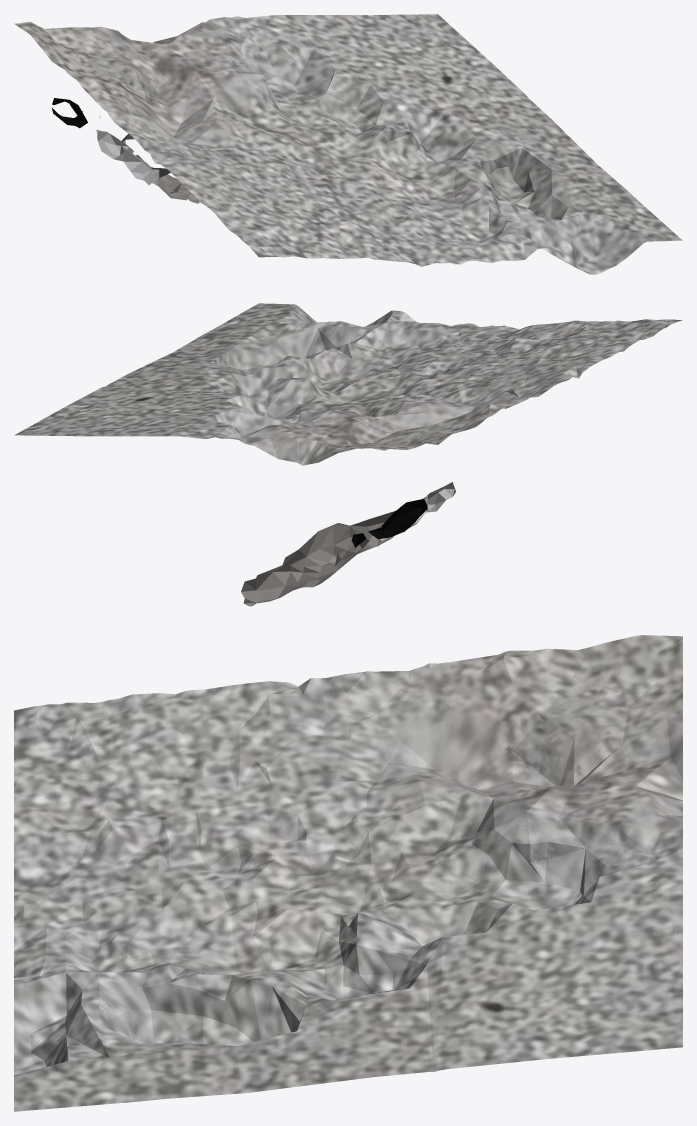
The picture shows the model from 3 angles, top to bottom: view 1: azimuth 30°, elevation 25°; view 2: azimuth 150°, elevation 25°; view 3: azimuth 270°, elevation 25°; orthographic projection. The views are drawn at different scales.
Bounding box in the file's own units: 0.8374 × 0.3929 × 0.8373.
3 materials, 3 textured.
